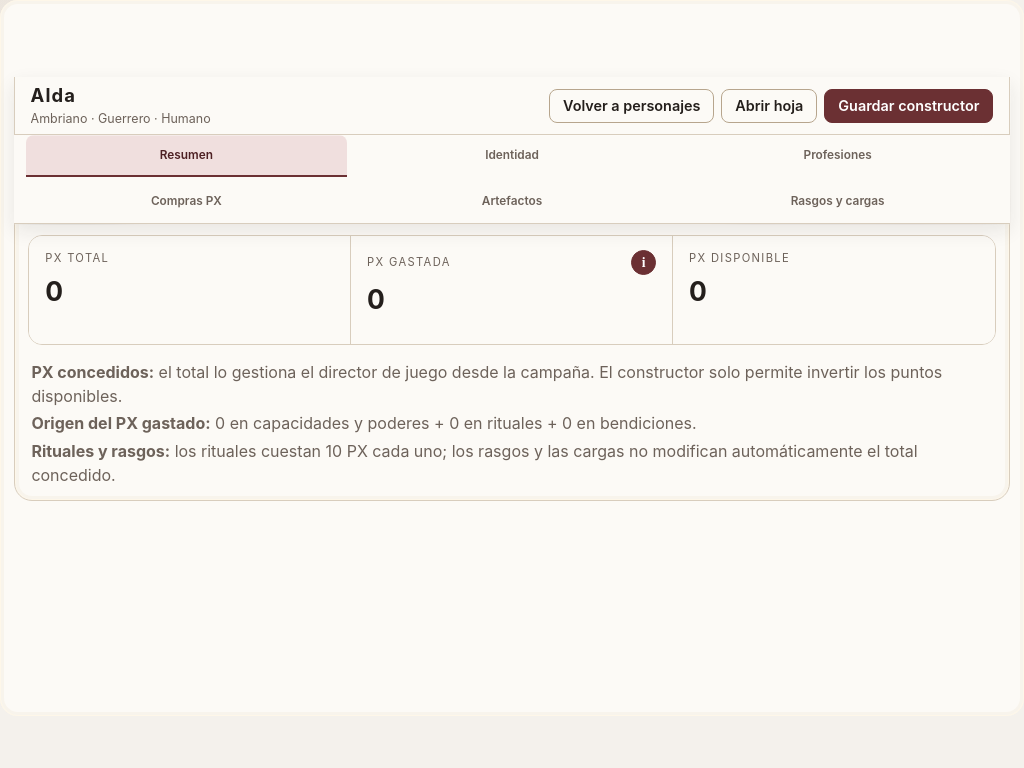
disables catalog blessing purchases when the character lacks XP
Click the button "Rasgos y cargas": click(838, 202) [677,182,998,224]
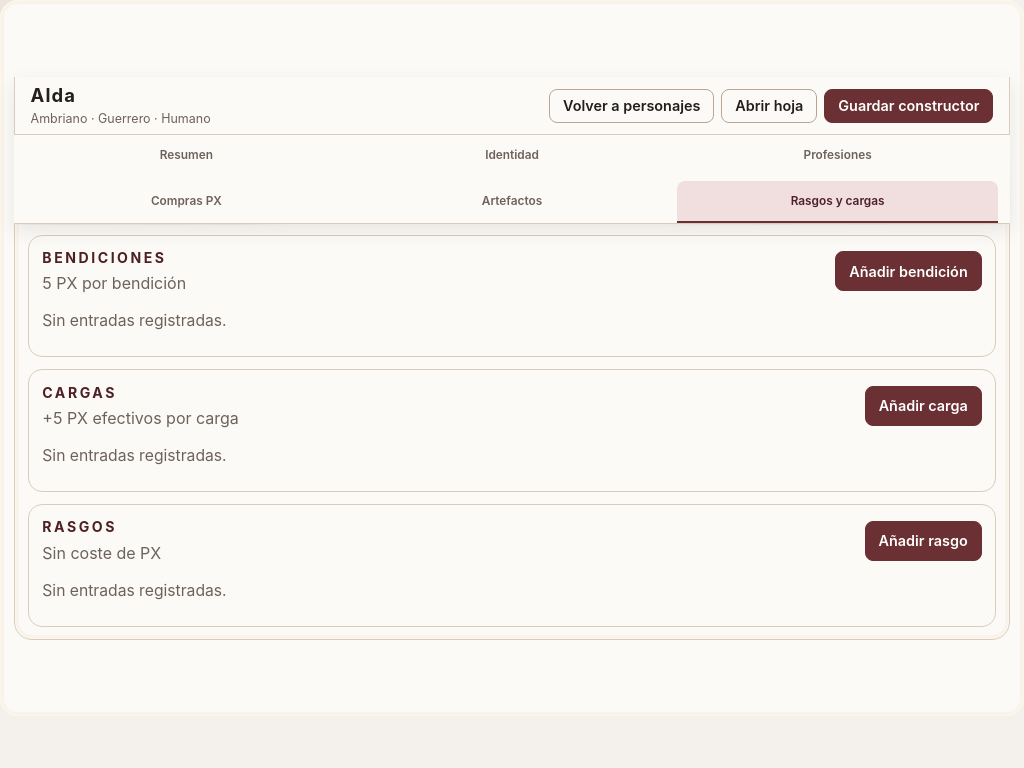
Click the button "Añadir bendición": click(908, 271) [835,251,982,291]
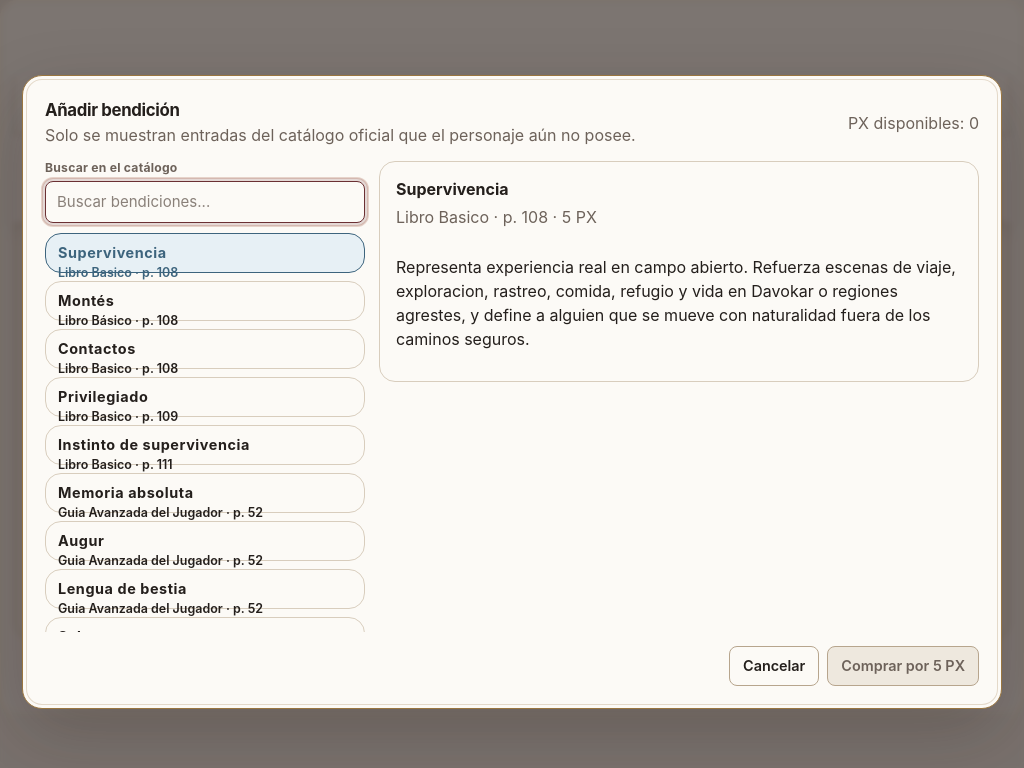
Expected: the button "Comprar por 5 PX" is disabled, [827,646,979,686]
